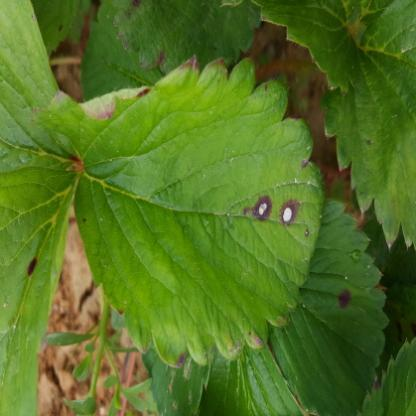Strawberry_Leaf_Spot: (74, 53, 325, 369), (268, 200, 388, 415), (318, 0, 416, 253), (0, 167, 82, 415), (0, 0, 84, 175), (112, 0, 262, 76), (361, 338, 415, 416), (32, 0, 90, 56)
